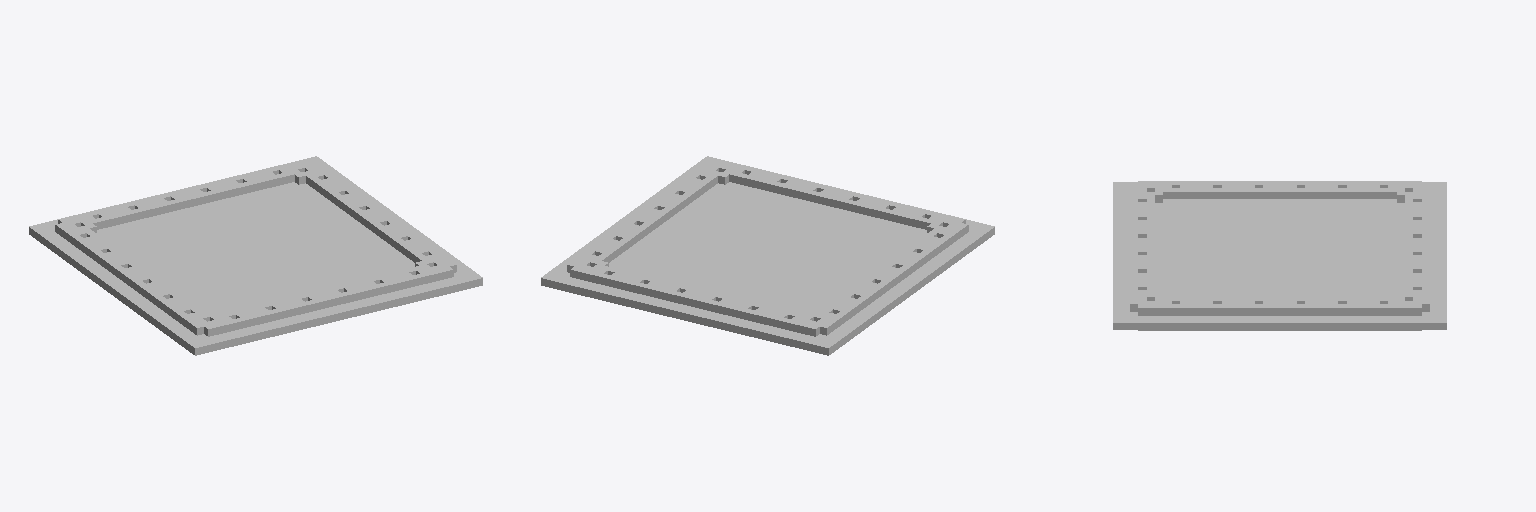
File: Architeture1-20.obj
The picture shows the model from 3 angles: view 1: azimuth 30°, elevation 25°; view 2: azimuth 150°, elevation 25°; view 3: azimuth 270°, elevation 25°; orthographic projection.
Parts seen in each view (by area): view 1: object 1; view 2: object 1; view 3: object 1.
Part boxes in pixels (x1,y1,x2,y2): object 1: (29, 156, 482, 355); object 1: (541, 156, 994, 355); object 1: (1113, 181, 1446, 330).
Bounding box in the file's own units: 4 × 0.3 × 4.